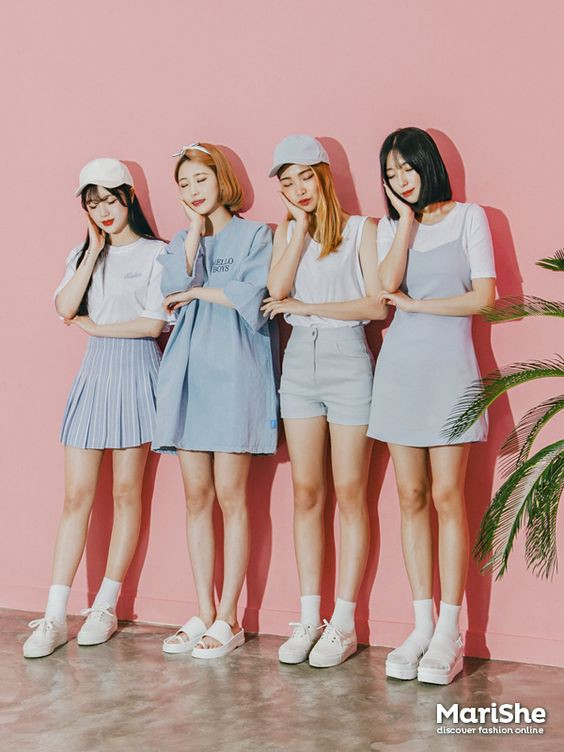people: (364, 123, 497, 693), (263, 130, 379, 674), (48, 159, 152, 650), (163, 137, 260, 663)
